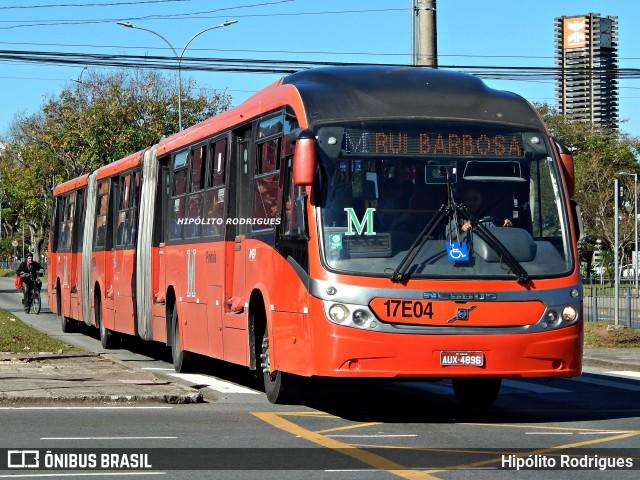RUI BARBBOSA: (371, 127, 527, 158)
